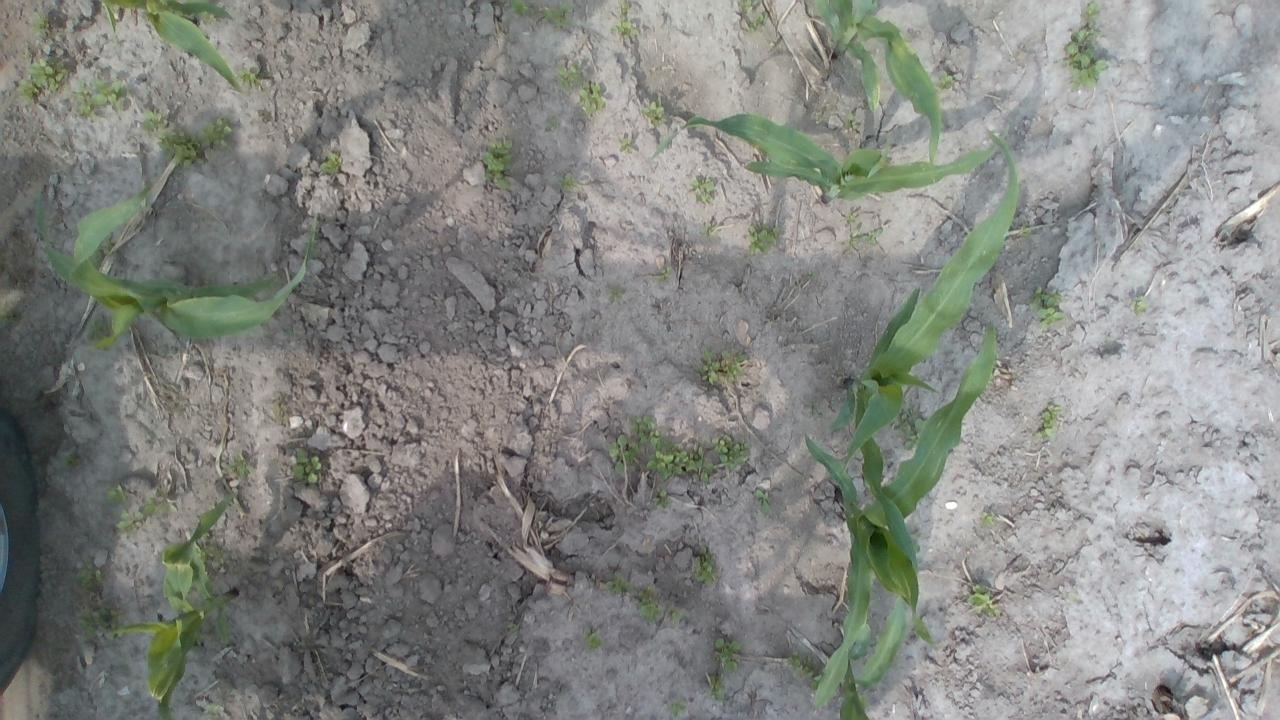Maize: (829, 126, 1022, 566), (804, 318, 1000, 706), (38, 190, 319, 350), (99, 490, 249, 718), (644, 110, 1007, 203), (810, 0, 946, 164), (99, 0, 249, 96), (838, 659, 882, 720)
Weeds: (609, 411, 769, 518), (141, 114, 232, 162), (1066, 4, 1110, 92), (103, 486, 168, 532), (76, 566, 119, 635), (788, 654, 854, 697), (606, 580, 670, 622), (13, 54, 58, 106), (560, 63, 602, 114), (72, 79, 127, 115), (700, 346, 744, 388), (708, 640, 738, 700), (846, 211, 886, 247), (485, 144, 516, 186), (507, 3, 572, 23), (1034, 287, 1064, 330), (614, 3, 638, 40), (295, 449, 319, 486), (971, 592, 998, 624), (749, 225, 774, 256), (694, 559, 722, 586), (690, 176, 716, 204), (226, 454, 252, 480), (30, 13, 57, 37), (1040, 407, 1062, 436), (61, 448, 82, 468), (319, 158, 342, 176), (585, 629, 602, 651), (1061, 591, 1081, 608), (240, 70, 260, 87), (617, 136, 636, 153), (562, 174, 581, 187), (985, 510, 998, 528), (1135, 297, 1150, 312), (644, 103, 658, 118), (943, 73, 955, 88)
